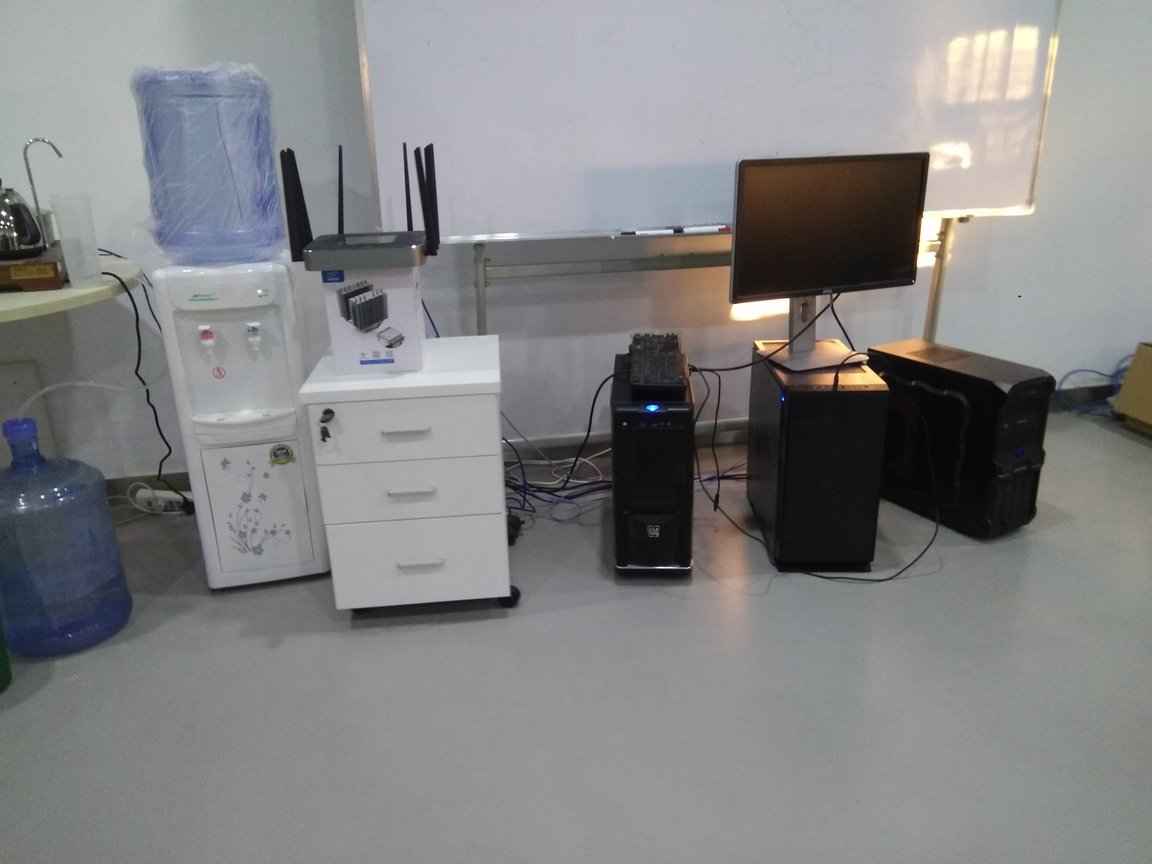computer: (865, 337, 1046, 557), (752, 339, 877, 590), (606, 344, 705, 608)
drawer chest: (304, 332, 525, 619)
monitor: (719, 148, 931, 379)
scuttlebutt: (1, 407, 146, 669), (128, 64, 289, 278)
water dispenser: (146, 253, 357, 594)
